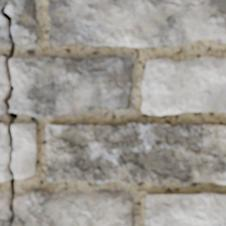brick: (46, 121, 225, 184), (49, 0, 225, 46), (142, 56, 225, 114), (145, 191, 225, 225)
broken_brick: (10, 56, 132, 118), (0, 188, 134, 225), (0, 0, 39, 46), (12, 123, 36, 179), (0, 123, 8, 182), (0, 55, 6, 114), (0, 14, 9, 44)
crack: (0, 2, 17, 223), (33, 159, 35, 173)
